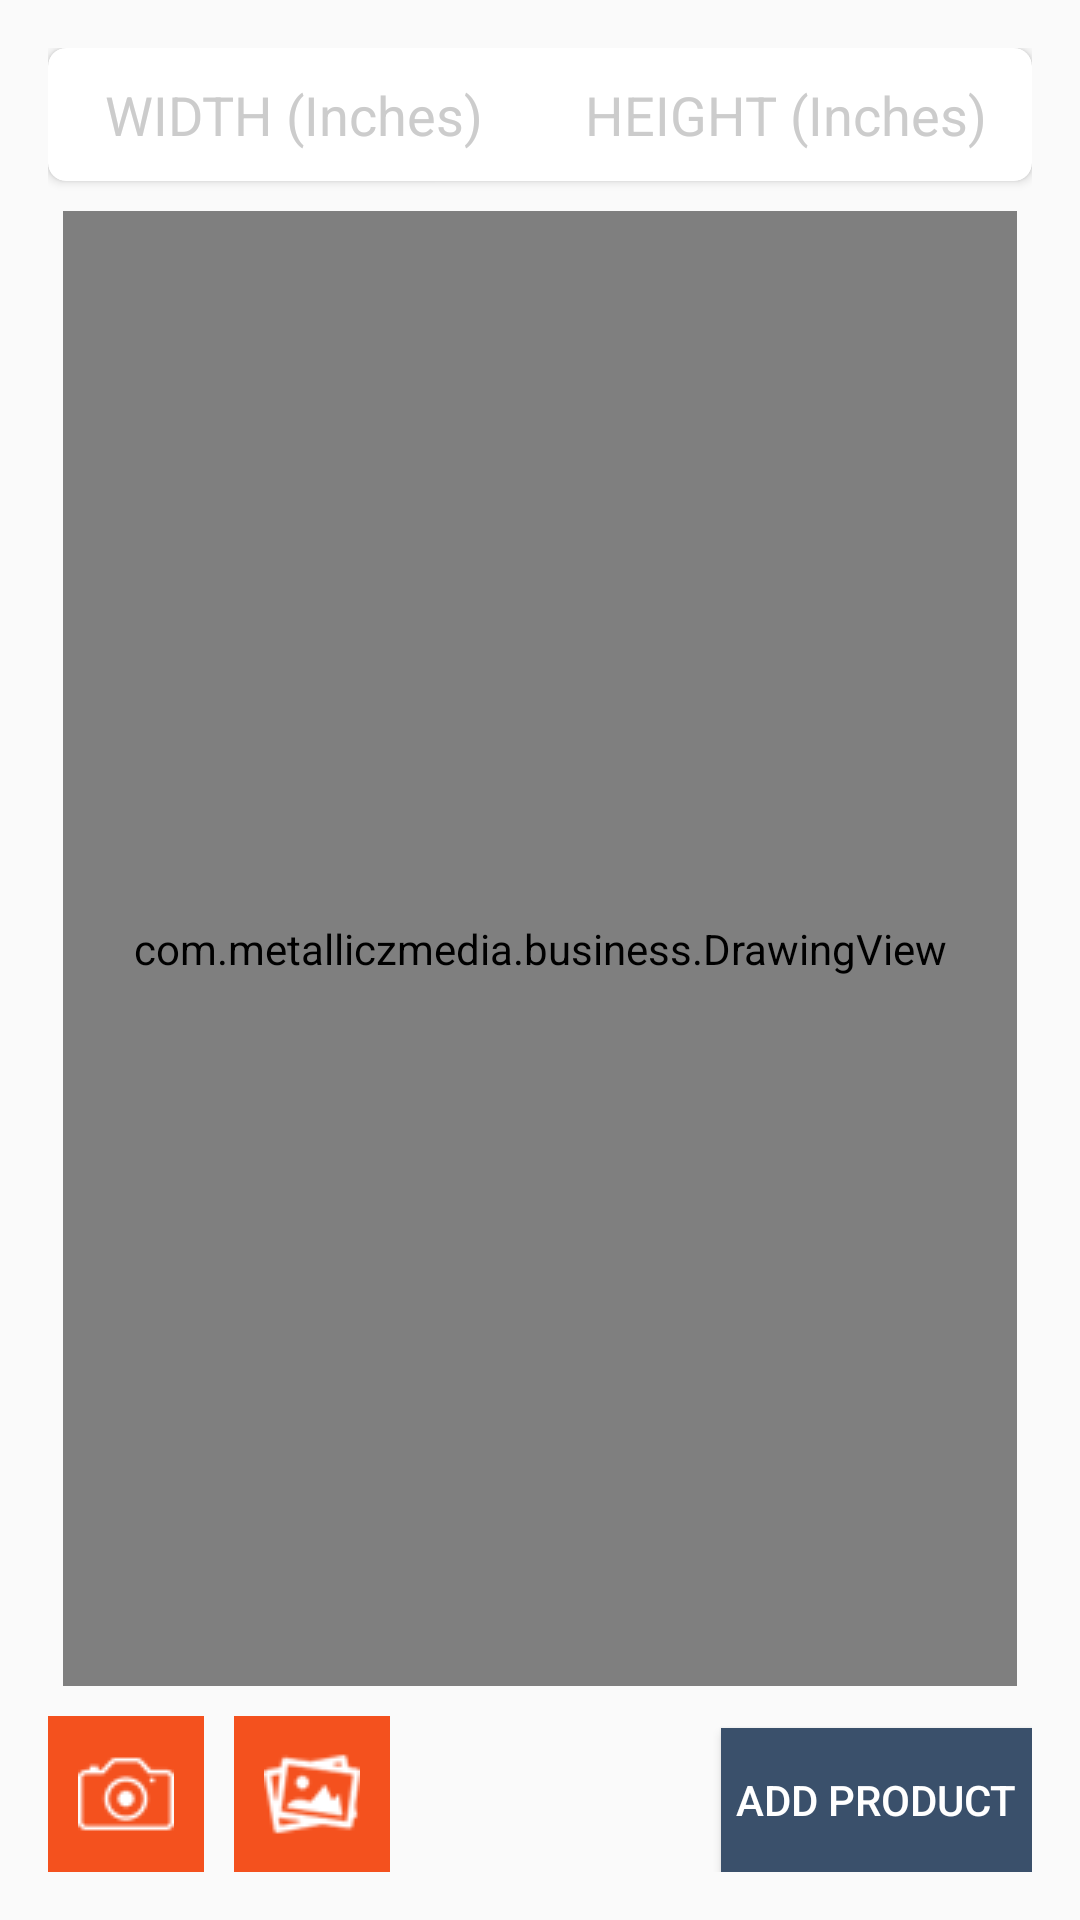

Icon click points for this 1080*1920 phone screenshot, format [x,y]:
camera: [126,1794]
gallery: [312,1794]
